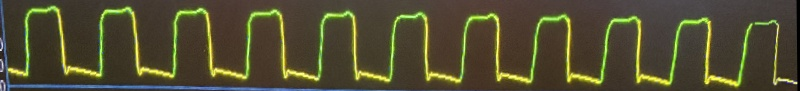normal_pressure: (0, 5, 794, 91)
